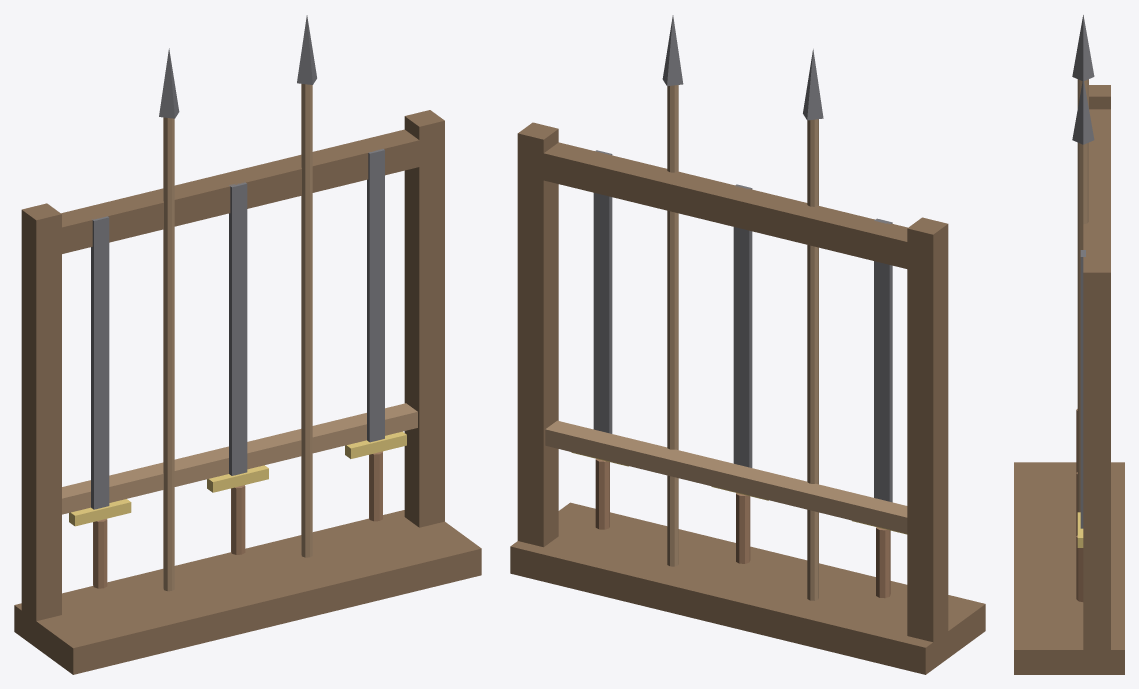
Rendered from weapon_rack.glb.
3 views of the same model, side by side, from view 1: azimuth 30°, elevation 25°; view 2: azimuth 150°, elevation 25°; view 3: azimuth 270°, elevation 25° (orthographic). The views are drawn at different scales.
Visible parts, largest first — view 1: weapon_rack; view 2: weapon_rack; view 3: weapon_rack.
Part boxes in pixels (left/top/right/bottom): weapon_rack: left=14, top=15, right=481, bottom=674; weapon_rack: left=510, top=15, right=985, bottom=674; weapon_rack: left=1014, top=15, right=1124, bottom=674.
Size of the model in its own units: 1.6 by 2.13 by 0.4.
